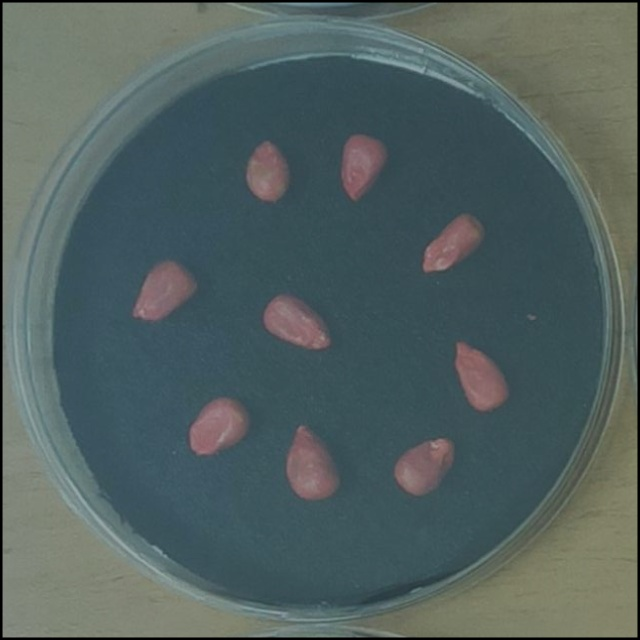Zea mays: (446, 333, 517, 419), (280, 416, 347, 507), (415, 202, 492, 281), (255, 286, 339, 358), (127, 251, 206, 325), (180, 388, 256, 463), (386, 429, 462, 502), (332, 124, 395, 206), (240, 131, 297, 206)
